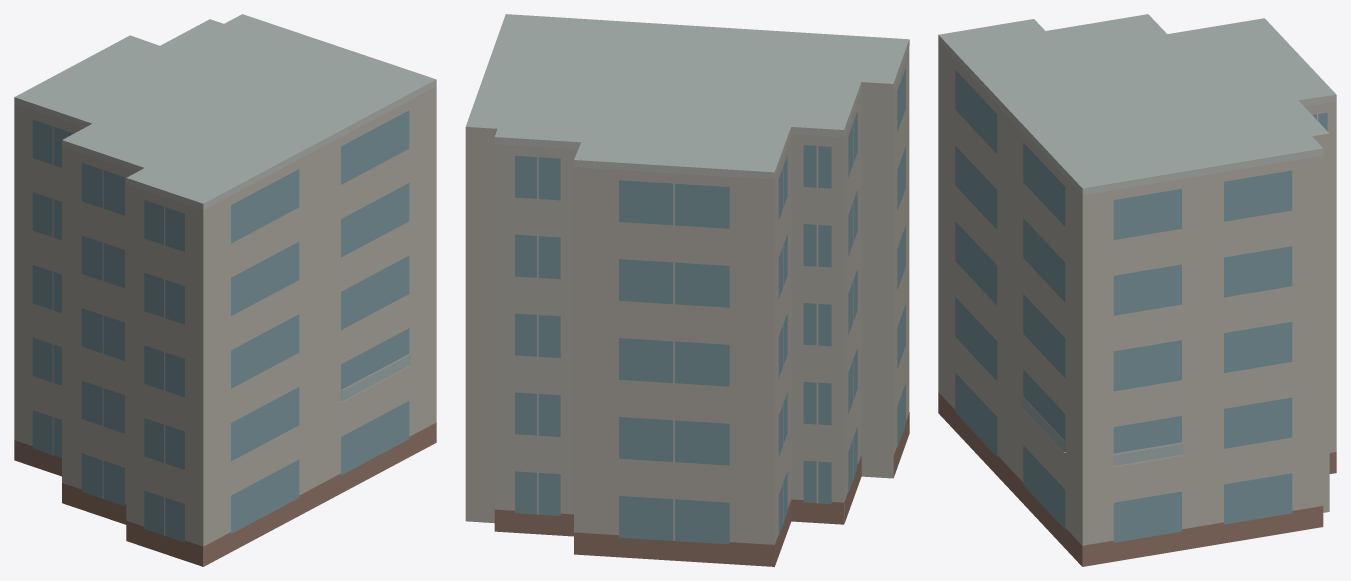
The model's file is survey-upis-32671564.glb.
3 views of the same model, side by side, from view 1: azimuth 30°, elevation 25°; view 2: azimuth 150°, elevation 25°; view 3: azimuth 270°, elevation 25° (orthographic). The views are drawn at different scales.
Parts seen in each view (by area): view 1: survey-upis-32671564.tmp; view 2: survey-upis-32671564.tmp; view 3: survey-upis-32671564.tmp.
Part boxes in pixels (x1,y1,x2,y2): survey-upis-32671564.tmp: [14, 14, 436, 566]; survey-upis-32671564.tmp: [465, 14, 909, 566]; survey-upis-32671564.tmp: [938, 14, 1336, 566].
Size of the model in its own units: 13.3 by 13.45 by 12.83.
